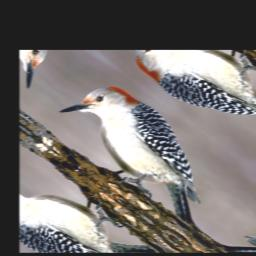Woodpecker: (44, 69, 236, 227)
